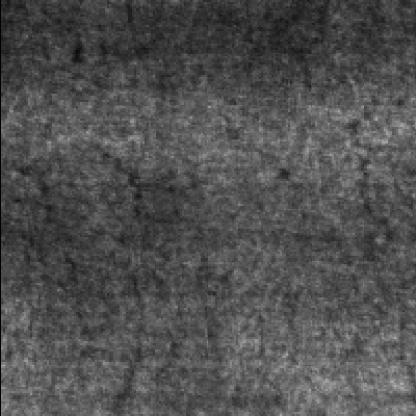crazing: (15, 140, 148, 414), (281, 114, 412, 358)
